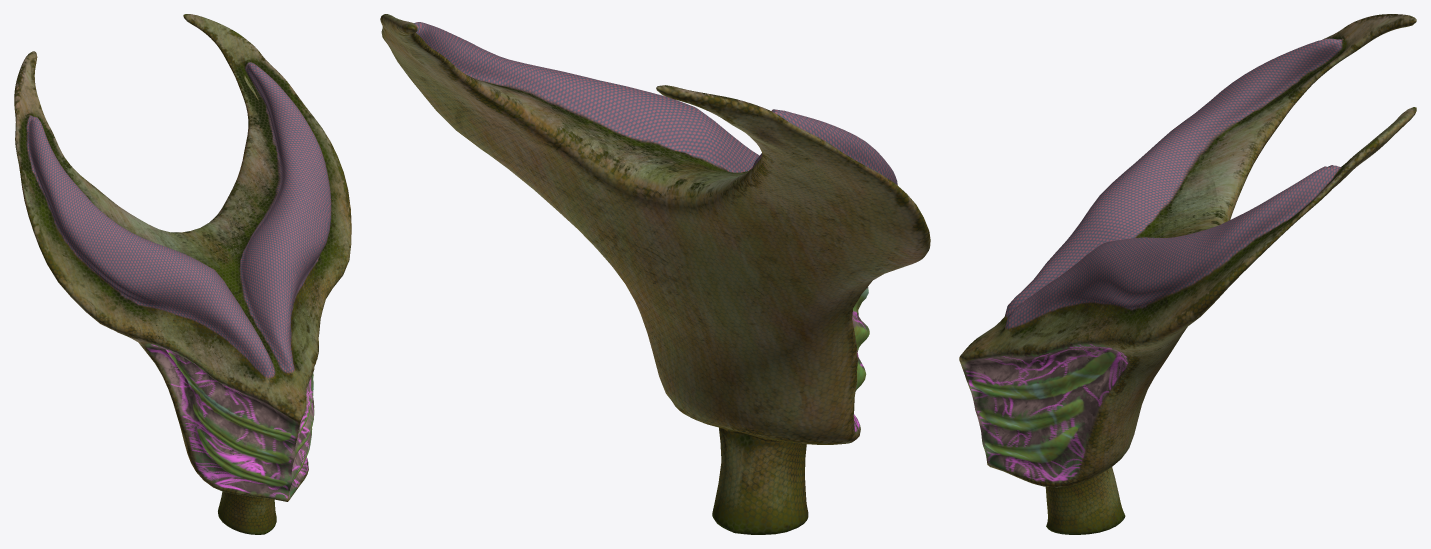
Rendered from Low_Poly_Mantis_Head_Final_01.fbx.
3 renders of one model, left to right at view 1: azimuth 30°, elevation 25°; view 2: azimuth 150°, elevation 25°; view 3: azimuth 270°, elevation 25°, orthographic. The views are drawn at different scales.
Visible parts, largest first — view 1: geo_LP_Mantis_Head_01; view 2: geo_LP_Mantis_Head_01; view 3: geo_LP_Mantis_Head_01.
Part boxes in pixels (x1,y1,x2,y2): geo_LP_Mantis_Head_01: [14, 14, 351, 534]; geo_LP_Mantis_Head_01: [380, 14, 930, 534]; geo_LP_Mantis_Head_01: [959, 14, 1416, 534].
Size of the model in its own units: 0.3666 by 0.4479 by 0.4006.
